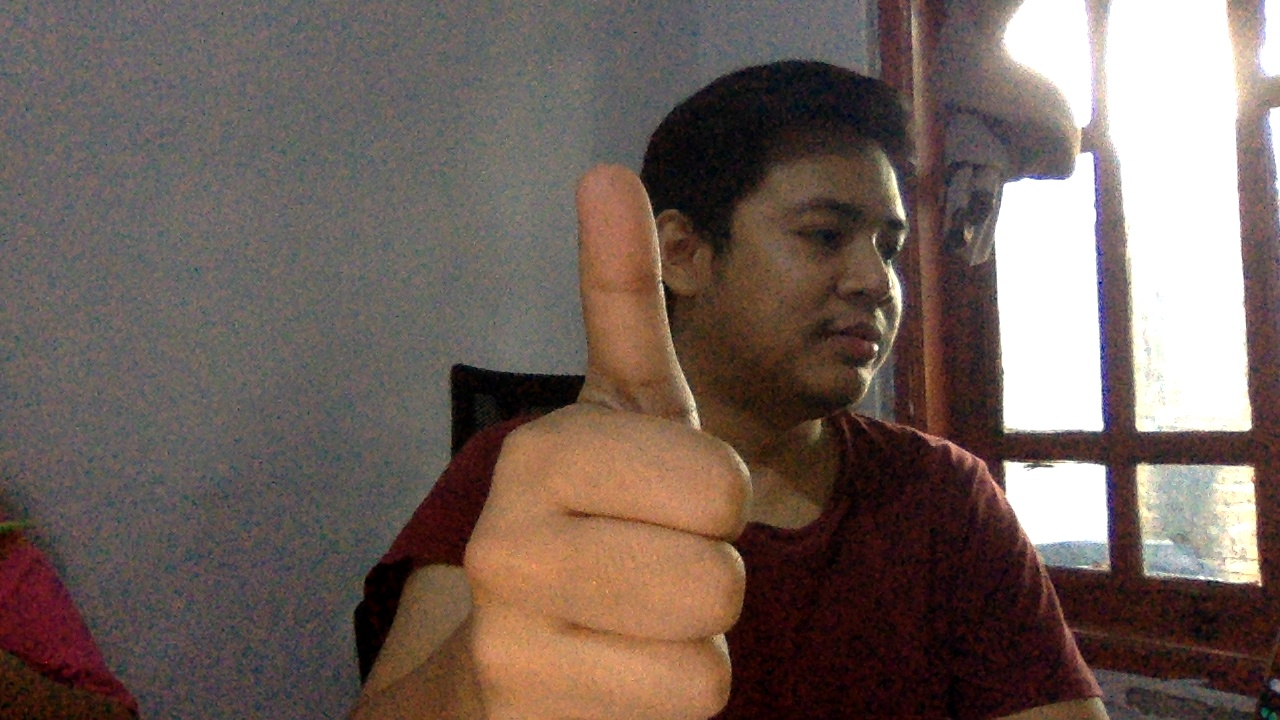thumbsup: (417, 126, 771, 720)
